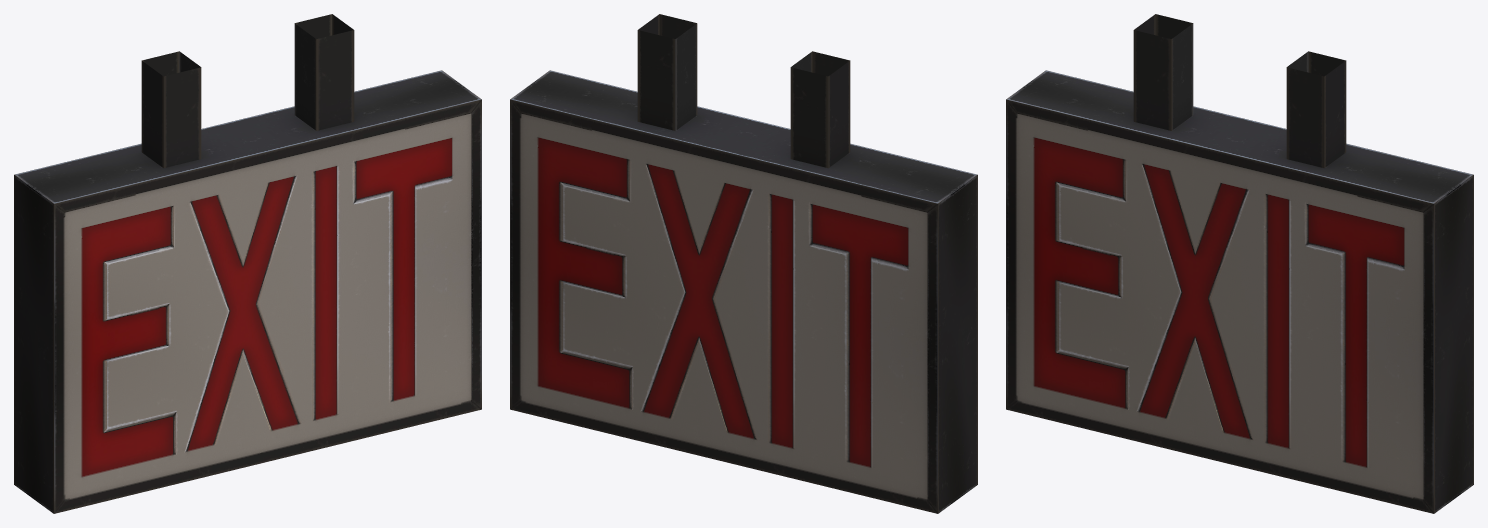
The model's file is Exit sign.dae.
3 renders of one model, left to right at view 1: azimuth 30°, elevation 25°; view 2: azimuth 150°, elevation 25°; view 3: azimuth 330°, elevation 25°, orthographic.
Visible parts, largest first — view 1: Box003; view 2: Box003; view 3: Box003.
Part boxes in pixels (<box>): Box003: <box>14,14,481,513</box>; Box003: <box>510,14,977,513</box>; Box003: <box>1006,14,1473,513</box>.
Bounding box in the file's own units: 32.27 × 5.2 × 28.97.
